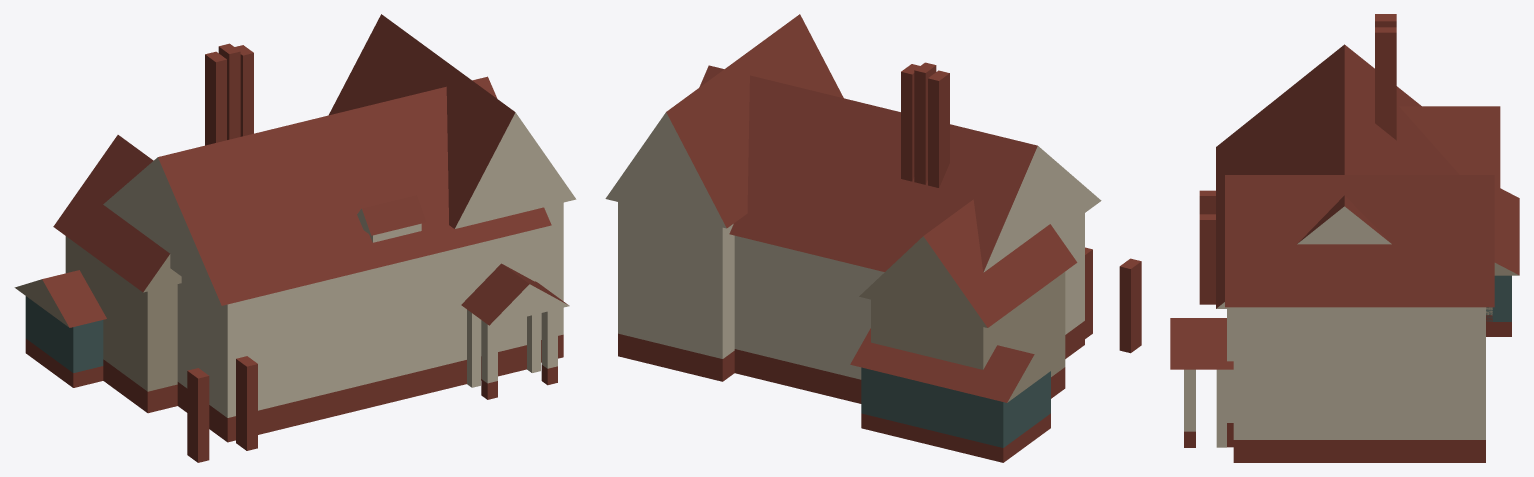
File: hudec-memorial-massing.glb
3 views of the same model, side by side, from view 1: azimuth 30°, elevation 25°; view 2: azimuth 150°, elevation 25°; view 3: azimuth 270°, elevation 25° (orthographic).
Parts seen in each view (by area): view 1: hudec-memorial-massing; view 2: hudec-memorial-massing; view 3: hudec-memorial-massing.
Part boxes in pixels (box(x1,y1,x2,y2)): hudec-memorial-massing: box(14, 14, 576, 462); hudec-memorial-massing: box(605, 14, 1141, 462); hudec-memorial-massing: box(1170, 14, 1519, 462).
Bounding box in the file's own units: 11.08 × 8.05 × 8.03.
